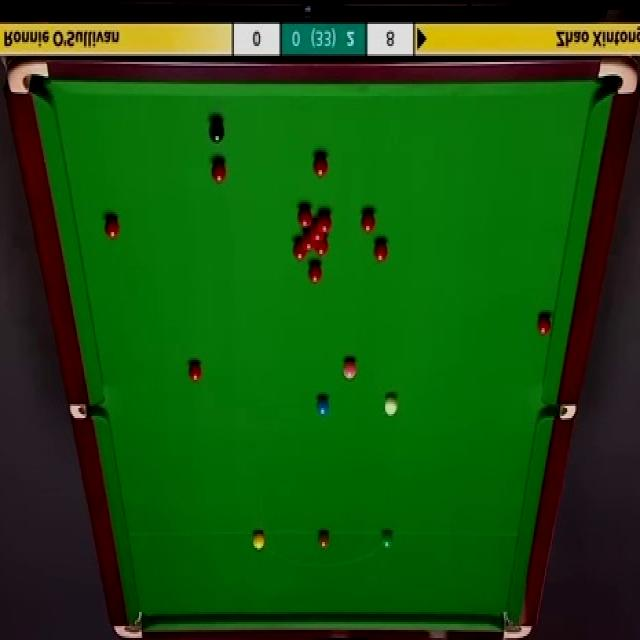pocket: (595, 55, 638, 103), (7, 58, 52, 98), (500, 603, 532, 639), (113, 608, 143, 640), (68, 402, 105, 423), (541, 403, 575, 419)
